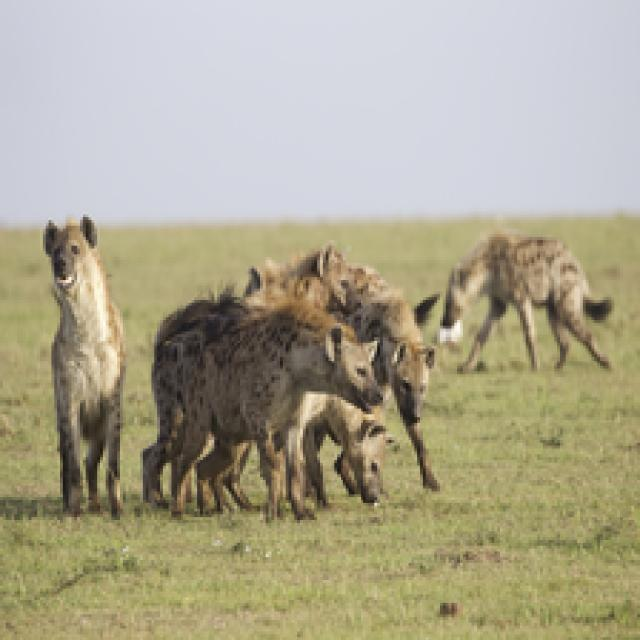hyena: (158, 250, 435, 527), (427, 215, 636, 383), (32, 199, 142, 497), (258, 411, 407, 502)
